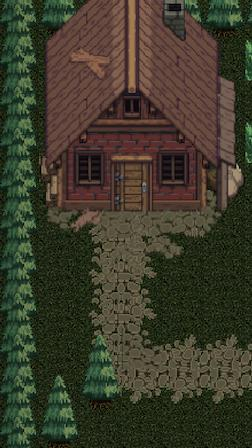Obstacle: (38, 39, 246, 286), (41, 0, 77, 33), (208, 4, 244, 37), (82, 377, 118, 410), (0, 0, 35, 33), (0, 40, 35, 73), (0, 85, 35, 118), (0, 127, 35, 160), (0, 169, 35, 202), (0, 209, 35, 242), (0, 252, 35, 285), (0, 290, 35, 323), (0, 334, 35, 367), (0, 375, 35, 408), (0, 415, 35, 448), (42, 414, 77, 447)
